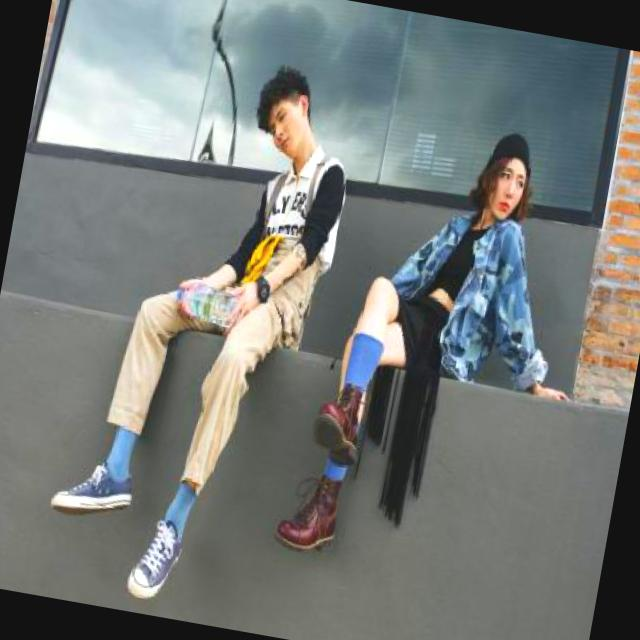Person: (267, 116, 575, 579)
